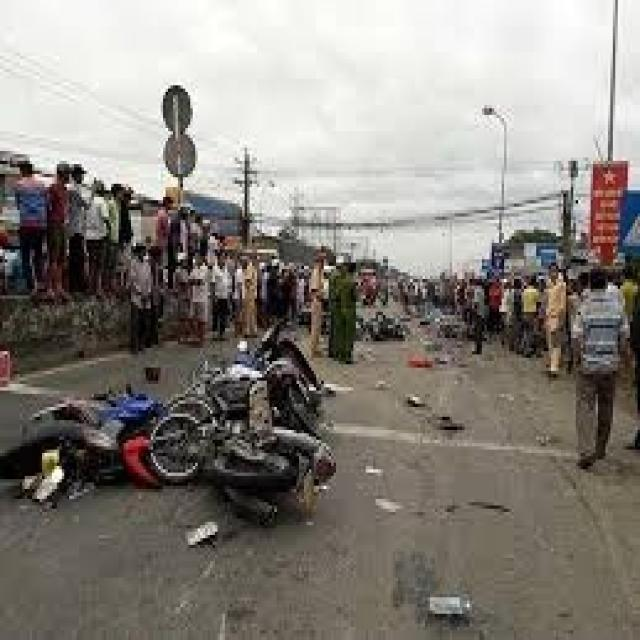accident: (124, 283, 338, 555), (358, 297, 412, 357)
